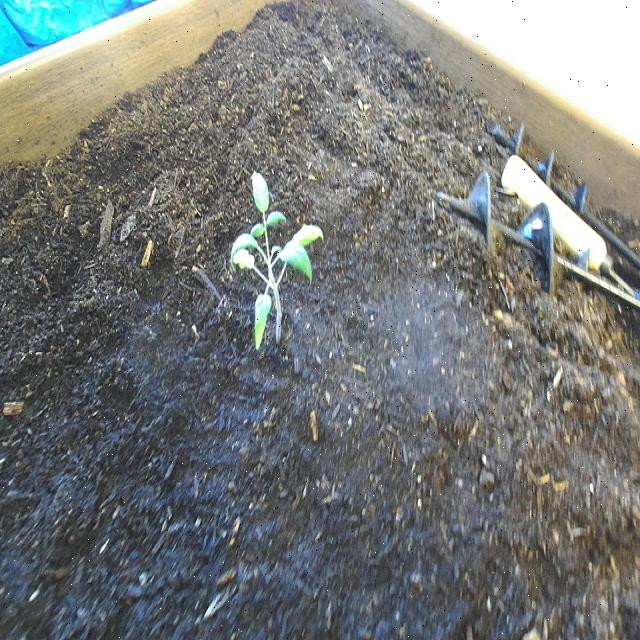Healthy: (228, 168, 328, 359)
